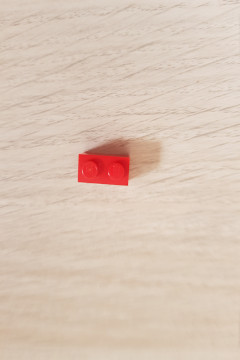1x2 red: (76, 150, 131, 187)
